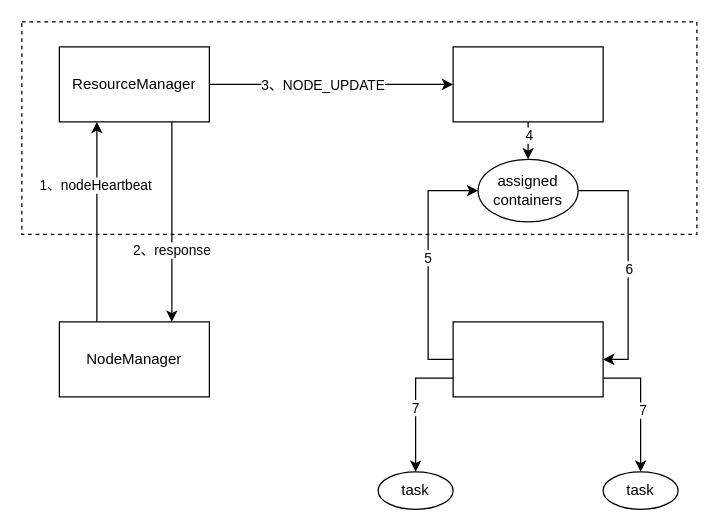
This 719x531 diagram has some shape labels left out. The centre of each missing label's shape, as x and y in pixels:
"ApplicationMaster" goes at (x=527, y=359).
"ResourceScheduler" goes at (x=527, y=84).
